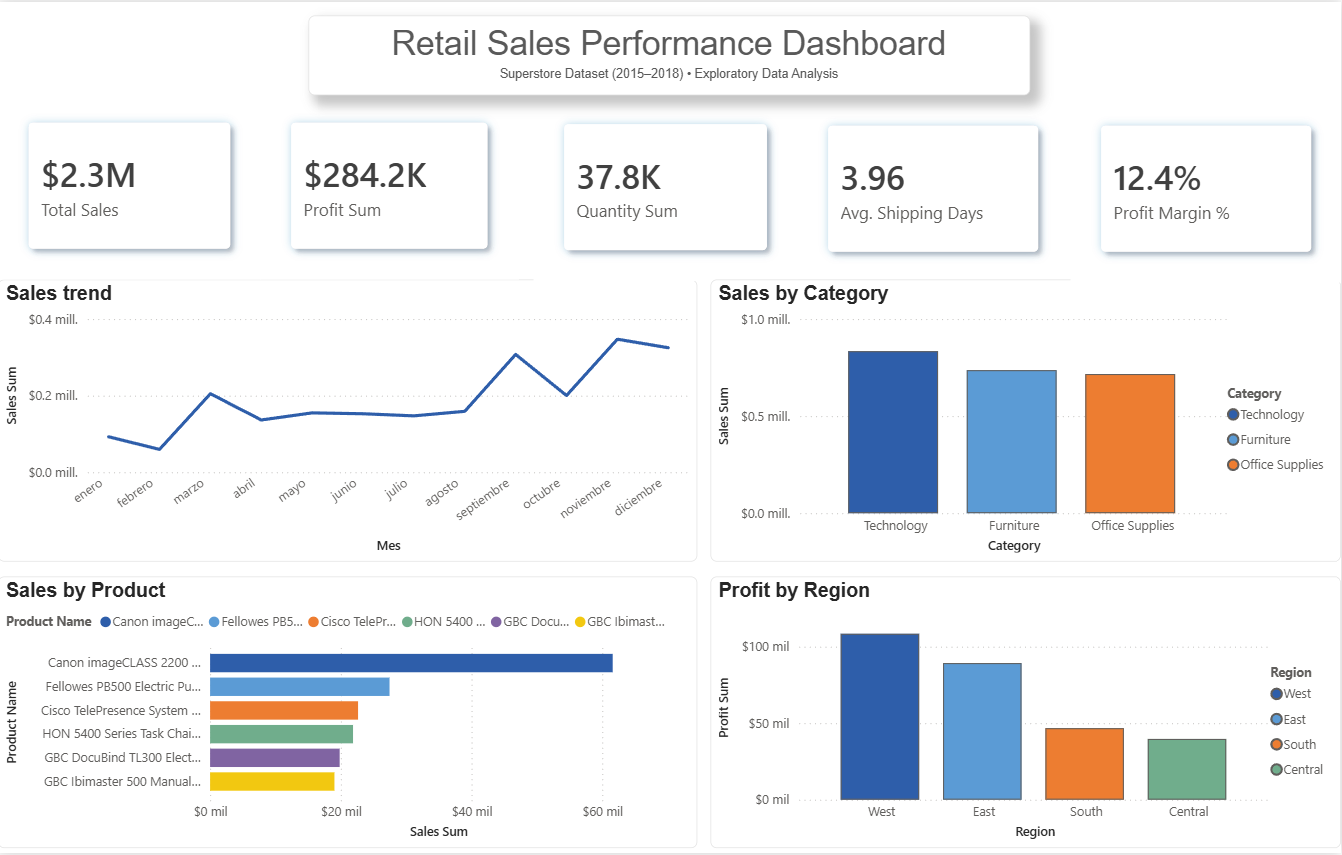

The page's visual inventory and layout, read from the dashboard file:
{"tool":"powerbi","page":{"name":"Página 1","canvas":[1280,810],"ordinal":0},"visuals":[{"type":"lineChart","title":"Sales trend","fields":{"Category":["superstore_eda.Order Date.Variación.Jerarquía de fechas.Año","superstore_eda.Order Date.Variación.Jerarquía de fechas.Trimestre","superstore_eda.Order Date.Variación.Jerarquía de fechas.Mes","superstore_eda.Order Date.Variación.Jerarquía de fechas.Día"],"Y":["Sum(superstore_eda.Sales)"]},"box":[0,264.3,665.7,268.6],"z":0},{"type":"cardVisual","fields":{"Data":["superstore_eda.Sales (formateado)"]},"box":[0,85.7,250,178.6],"z":1000},{"type":"cardVisual","fields":{"Data":["superstore_eda.Quantify Sum"]},"box":[510,87.1,251.4,178.6],"z":2000},{"type":"cardVisual","fields":{"Data":["Avg(superstore_eda.Shipping Days)"]},"box":[761.4,88.6,258.6,178.6],"z":3000},{"type":"columnChart","title":"Sales by Category","fields":{"Category":["superstore_eda.Category"],"Y":["Sum(superstore_eda.Sales)"],"Series":["superstore_eda.Category"]},"box":[678.6,264.3,601.4,268.6],"z":4000},{"type":"columnChart","title":"Profit by Region","fields":{"Category":["superstore_eda.Region"],"Y":["Sum(superstore_eda.Profit)"],"Series":["superstore_eda.Region"]},"box":[678.6,547.1,601.4,258.6],"z":5000},{"type":"barChart","title":"Sales by Product","fields":{"Category":["superstore_eda.Product Name"],"Y":["Sum(superstore_eda.Sales)"],"Series":["superstore_eda.Product Name"]},"box":[0,547.1,665.7,258.6],"z":6000},{"type":"cardVisual","fields":{"Data":["superstore_eda.Profit sum"]},"box":[250,85.7,245.7,178.6],"z":7000},{"type":"cardVisual","fields":{"Data":["superstore_eda.Profit Margin %"]},"box":[1021.4,88.6,258.6,178.6],"z":8000},{"type":"textbox","box":[295.7,12.9,687.1,75.7],"z":9000}]}

Visuals, with their boxes in screenshot pixels (x1, y1, x2, y2), scaled from the page's 1280x810 canvas onto the 1342x855 screenshot:
"Sales trend" lineChart: select_region(0, 279, 698, 563)
cardVisual - superstore_eda.Sales (formateado): select_region(0, 90, 262, 279)
cardVisual - superstore_eda.Quantify Sum: select_region(535, 92, 798, 280)
cardVisual - Avg(superstore_eda.Shipping Days): select_region(798, 94, 1069, 282)
"Sales by Category" columnChart: select_region(711, 279, 1341, 563)
"Profit by Region" columnChart: select_region(711, 577, 1341, 850)
"Sales by Product" barChart: select_region(0, 577, 698, 850)
cardVisual - superstore_eda.Profit sum: select_region(262, 90, 520, 279)
cardVisual - superstore_eda.Profit Margin %: select_region(1071, 94, 1341, 282)
textbox: select_region(310, 14, 1030, 94)
